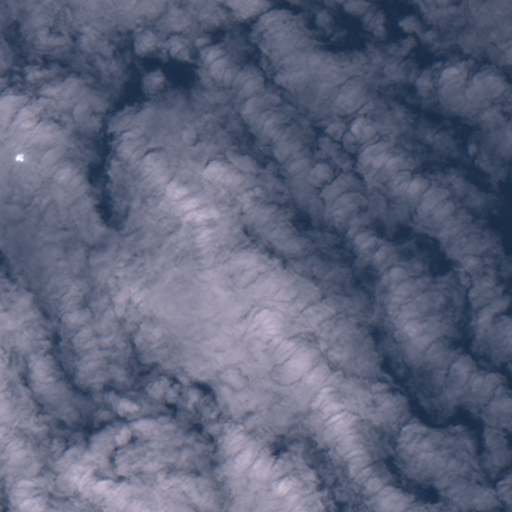Iceberg: (15, 154, 23, 161)
